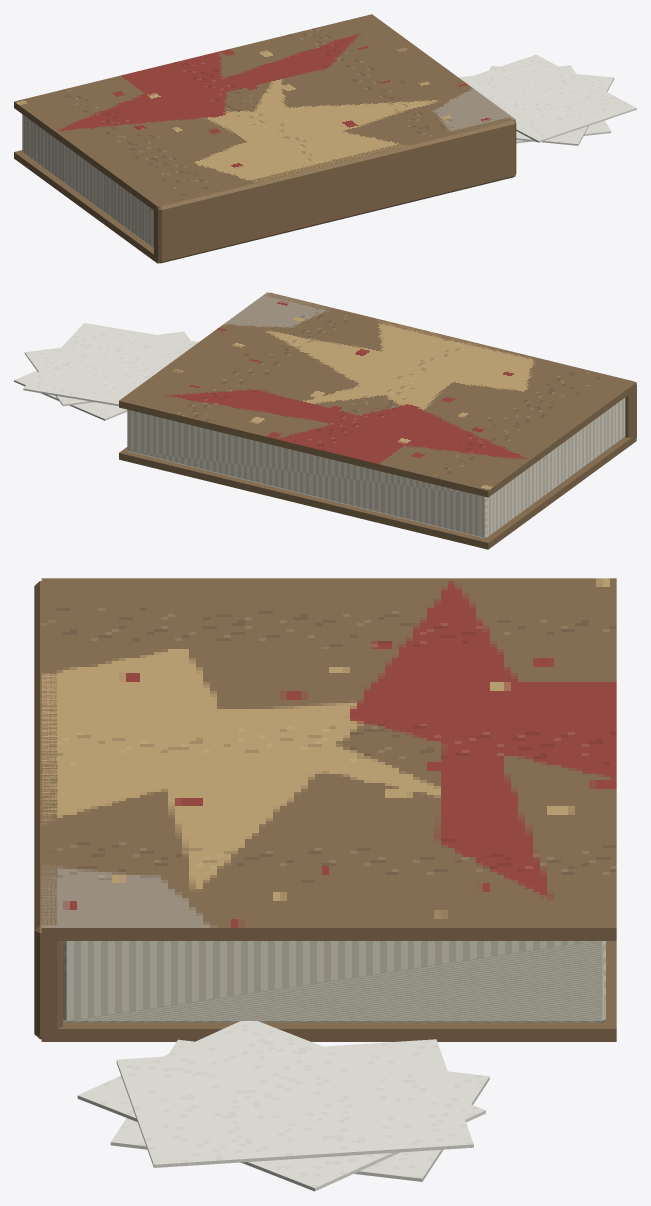
Rendered from book_ruined.glb.
3 renders of one model, top to bottom at view 1: azimuth 30°, elevation 25°; view 2: azimuth 150°, elevation 25°; view 3: azimuth 270°, elevation 25°, orthographic. The views are drawn at different scales.
Visible parts, largest first — view 1: block_front, block_spine, block_torn2, block_pages, block_back, block_torn1, block_torn0; view 2: block_front, block_pages, block_torn2, block_back, block_spine, block_torn0, block_torn1; view 3: block_front, block_pages, block_torn2, block_back, block_spine, block_torn1, block_torn0.
Part boxes in pixels (x1,y1,x2,y2): block_front: (14,14,515,212); block_spine: (154,117,516,263); block_torn2: (462,54,636,142); block_pages: (22,114,153,247); block_back: (14,150,515,263); block_torn1: (489,66,614,145); block_torn0: (459,65,611,143); block_front: (119,292,636,497); block_pages: (127,397,625,538); block_torn2: (23,323,198,405); block_back: (119,437,636,549); block_spine: (266,292,636,440); block_torn0: (14,370,127,420); block_torn1: (24,331,190,406); block_front: (41,578,616,940); block_pages: (63,941,605,1022); block_torn2: (116,1039,473,1167); block_back: (41,941,616,1041); block_spine: (34,581,62,1039); block_torn1: (77,1021,485,1191); block_torn0: (110,1039,489,1181).
Size of the model in its own units: 0.3371 by 0.035 by 0.162.
1 material, 1 textured.
